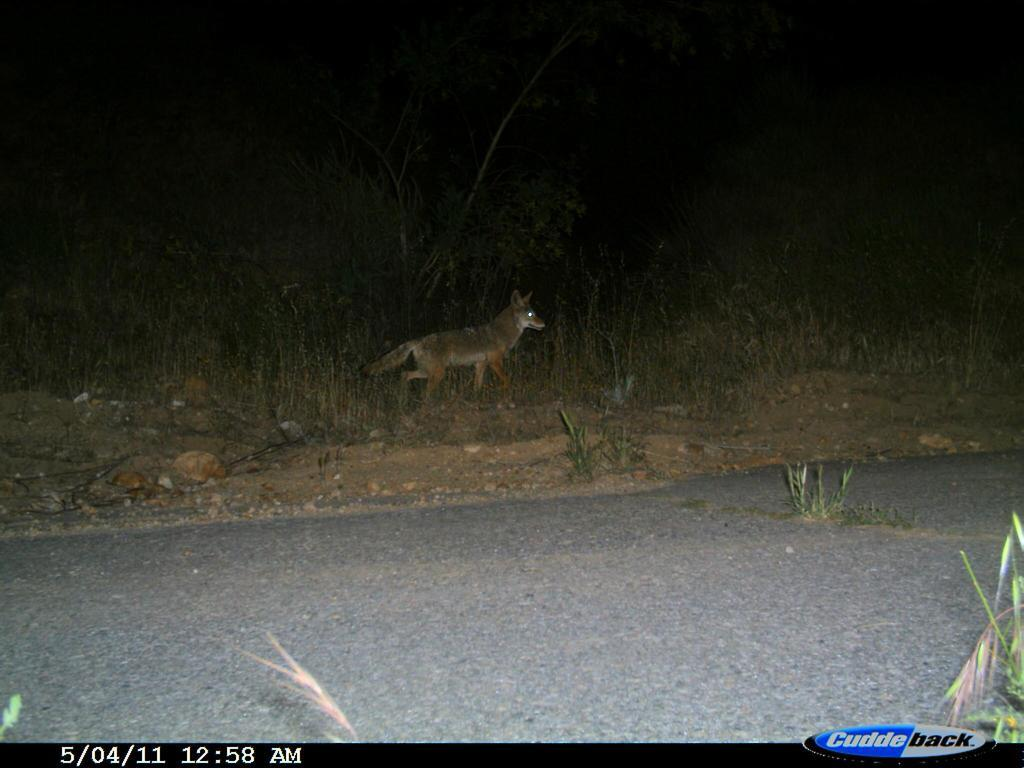coyote: (361, 281, 548, 409)
